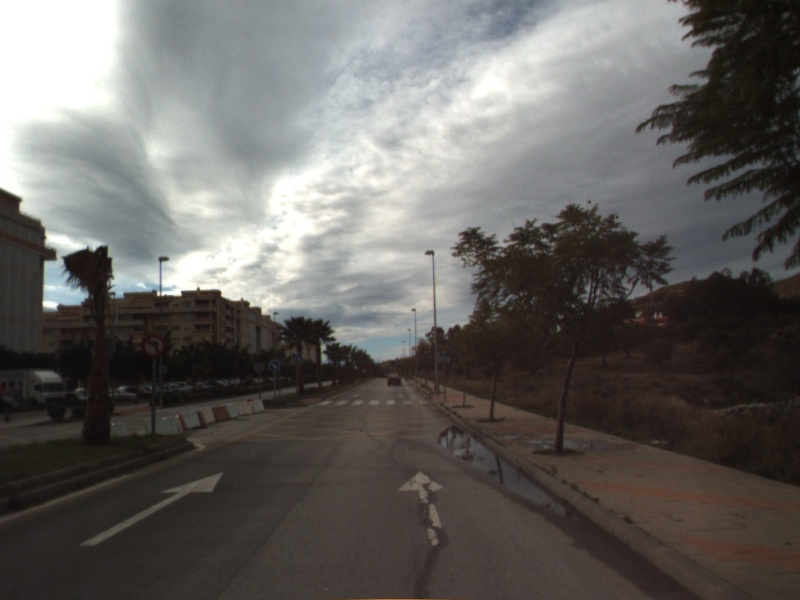STRAIGHT: (77, 470, 225, 548), (395, 468, 452, 548)
